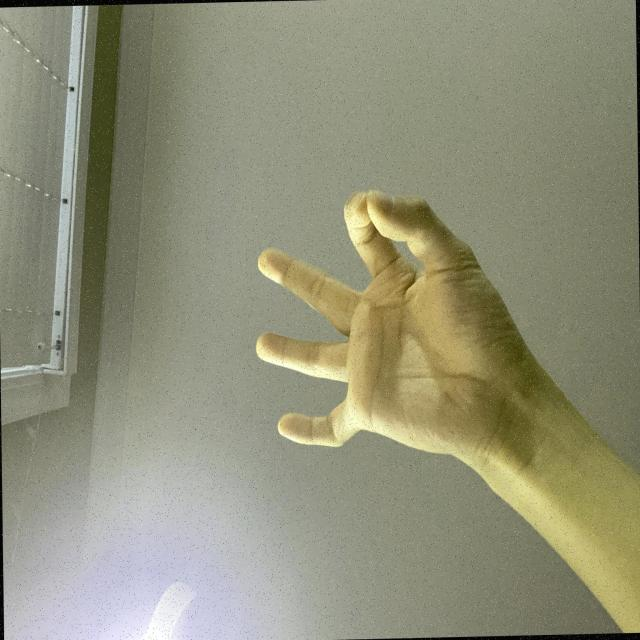F: (121, 328, 344, 640)
